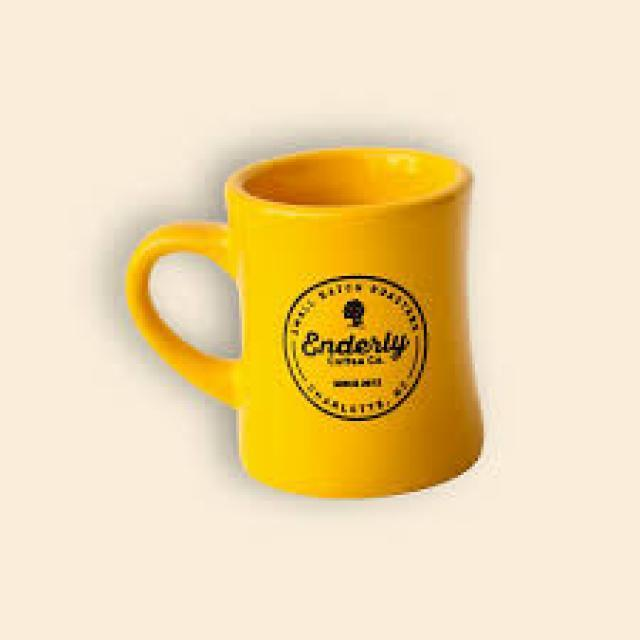taza: (127, 144, 488, 501)
